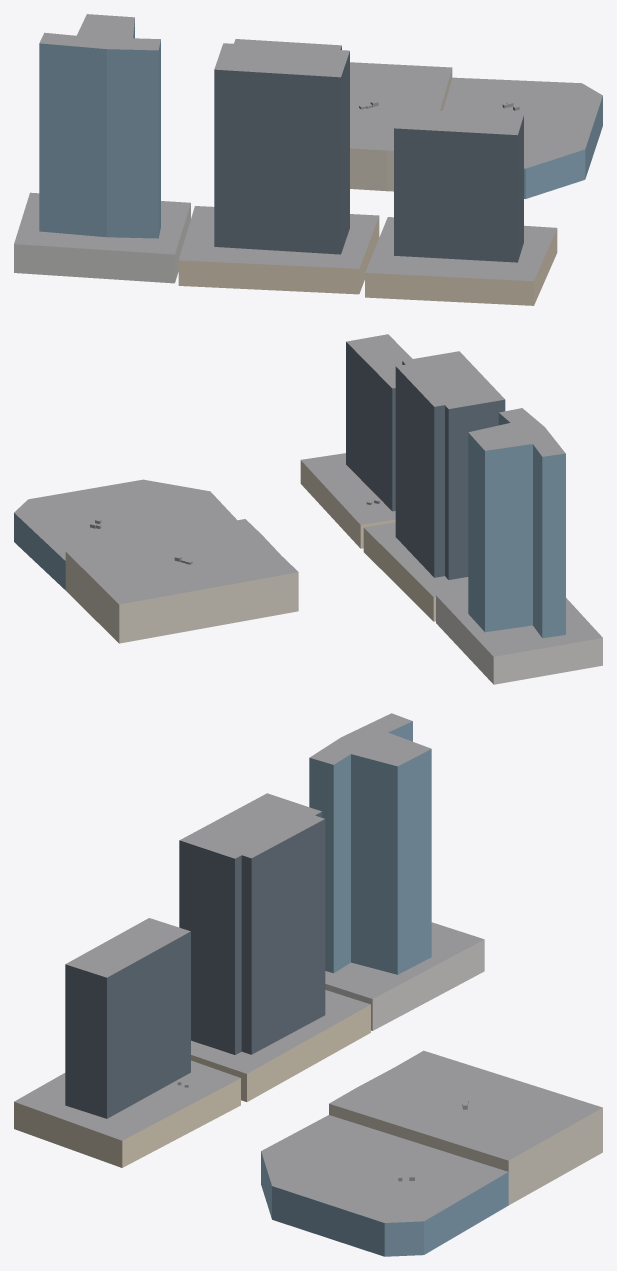
The model's file is building_-2_6.glb.
3 views of the same model, one above another, from view 1: azimuth 30°, elevation 25°; view 2: azimuth 150°, elevation 25°; view 3: azimuth 270°, elevation 25° (orthographic). The views are drawn at different scales.
Visible parts, largest first — view 1: glass_dark, roof, glass_blue, sandstone, concrete_light, concrete_warm; view 2: roof, glass_dark, glass_blue, concrete_warm, concrete_light, sandstone; view 3: roof, glass_dark, glass_blue, sandstone, concrete_warm, concrete_light.
Part boxes in pixels (x1,y1,x2,y2): glass_dark: (214, 46, 523, 262); roof: (14, 14, 602, 281); glass_blue: (39, 19, 602, 238); sandstone: (178, 216, 557, 305); concrete_light: (14, 203, 190, 283); concrete_warm: (350, 68, 452, 191); roof: (14, 334, 602, 656); glass_dark: (346, 342, 505, 579); glass_blue: (14, 413, 565, 638); concrete_warm: (65, 552, 298, 643); concrete_light: (436, 595, 602, 684); sandstone: (300, 460, 435, 621); roof: (14, 713, 602, 1222); glass_dark: (65, 812, 325, 1118); glass_blue: (261, 721, 508, 1256); sandstone: (14, 1004, 370, 1167); concrete_warm: (329, 1104, 602, 1204); concrete_light: (325, 939, 484, 1030).
Size of the model in its own units: 306 by 107 by 238.
